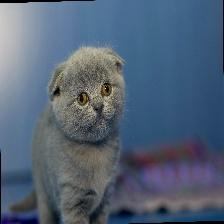kedo: (9, 47, 126, 222)
